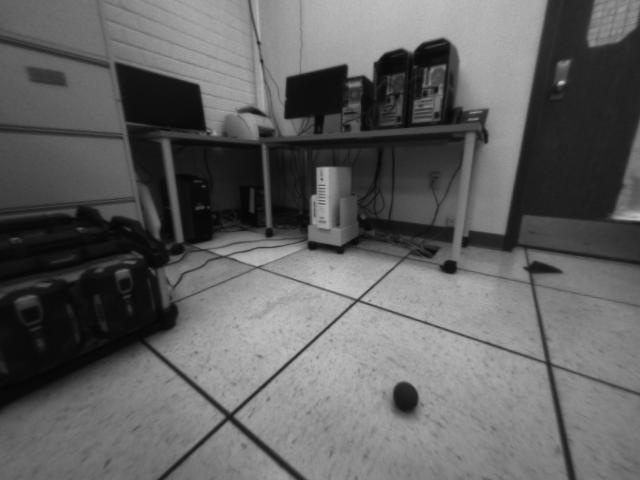dogtoy: (384, 372, 429, 417)
